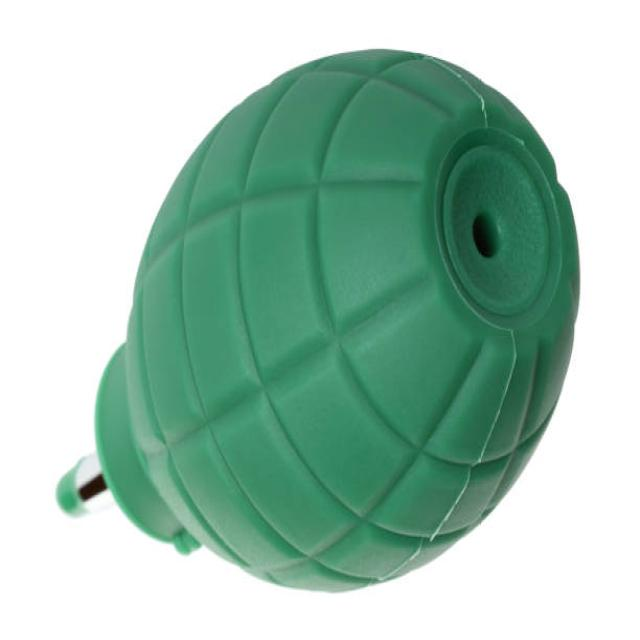grenade: (50, 46, 587, 599)
